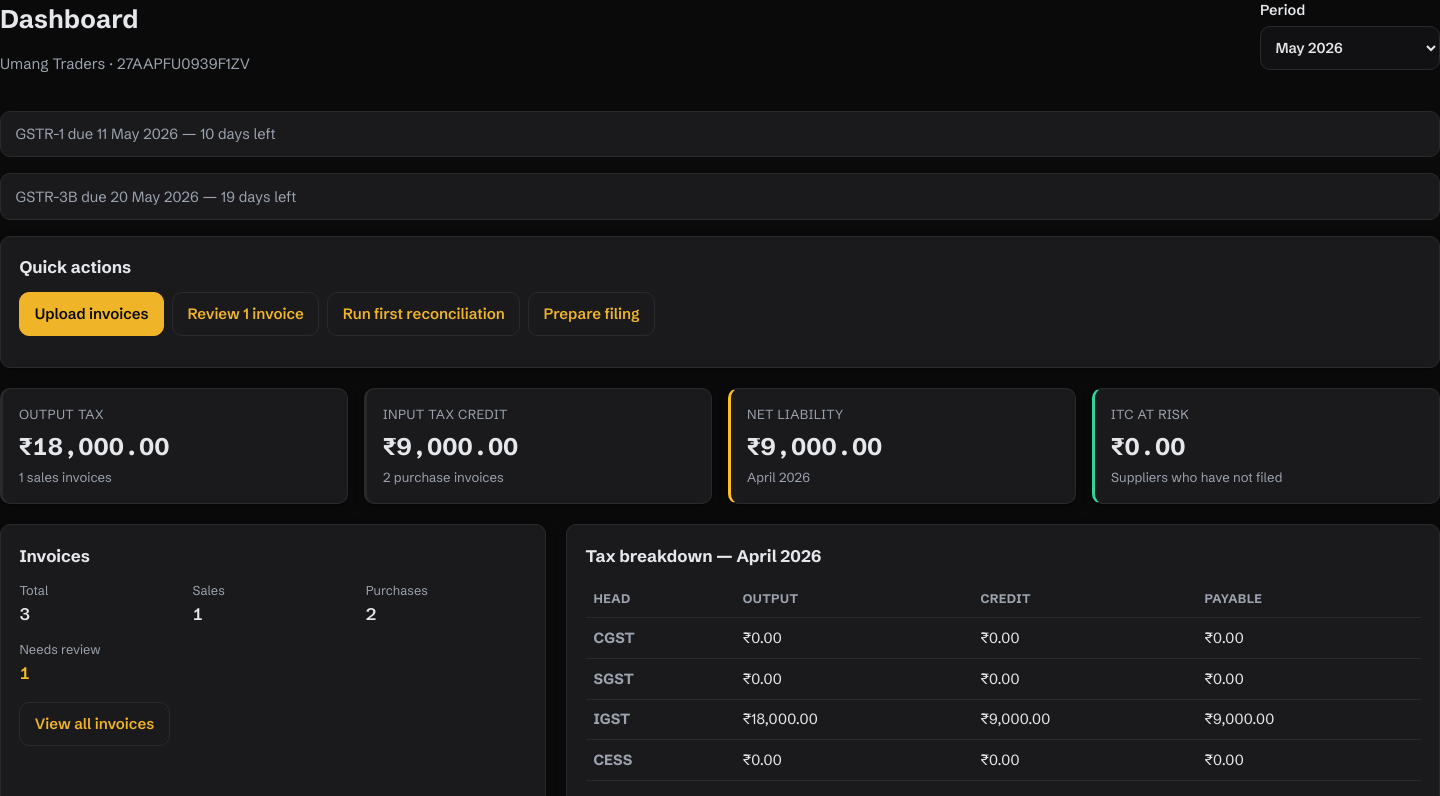
it: DashboardPage › the period picker › when answers come back out of order › does not let one month's figures land under another month's label
The width and height of the screenshot is (1440, 796).
Expected: the text "Umang Traders · 27AAPFU0939F1ZV" is shown, [0, 53, 250, 76]
Select "March 2026" in the dropdown labelled "Period" at (1350, 48), box [1260, 26, 1439, 70]
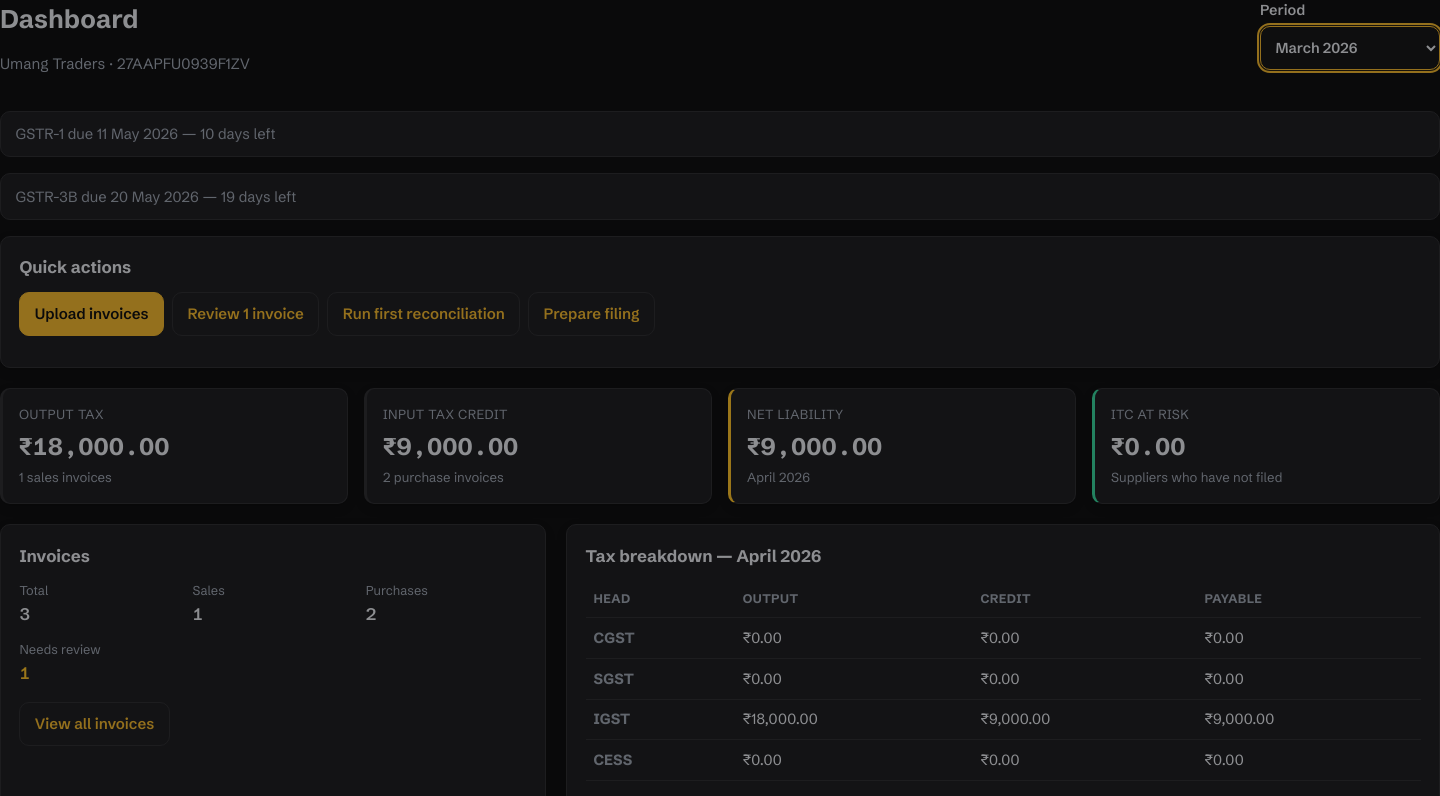
Select "February 2026" in the dropdown labelled "Period" at (1350, 48), box [1260, 26, 1439, 70]
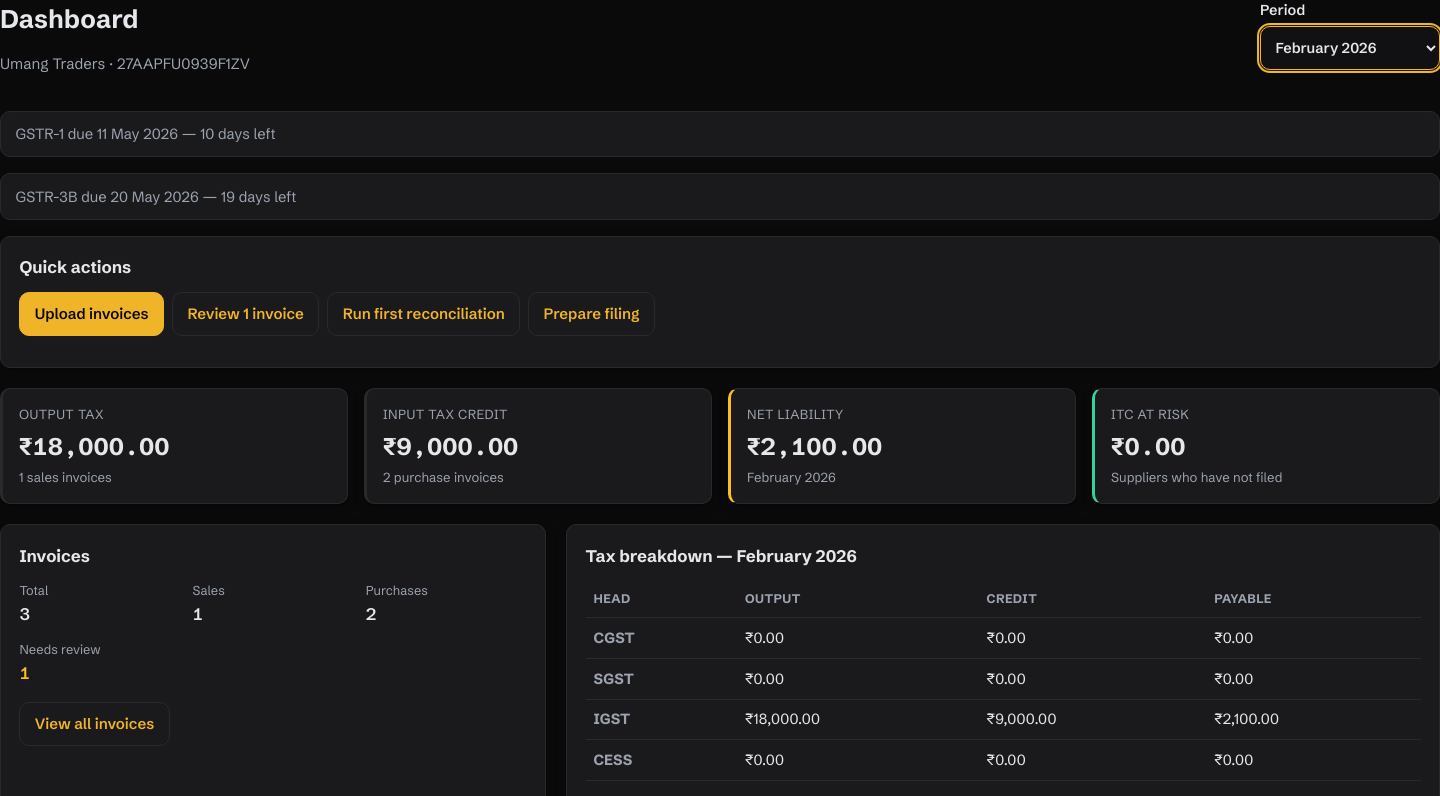
Expected: the element named "Tax breakdown for February 2026" is shown, [586, 581, 1421, 781]
Expected: the text "₹2,100.00" is shown, [747, 432, 882, 461]
